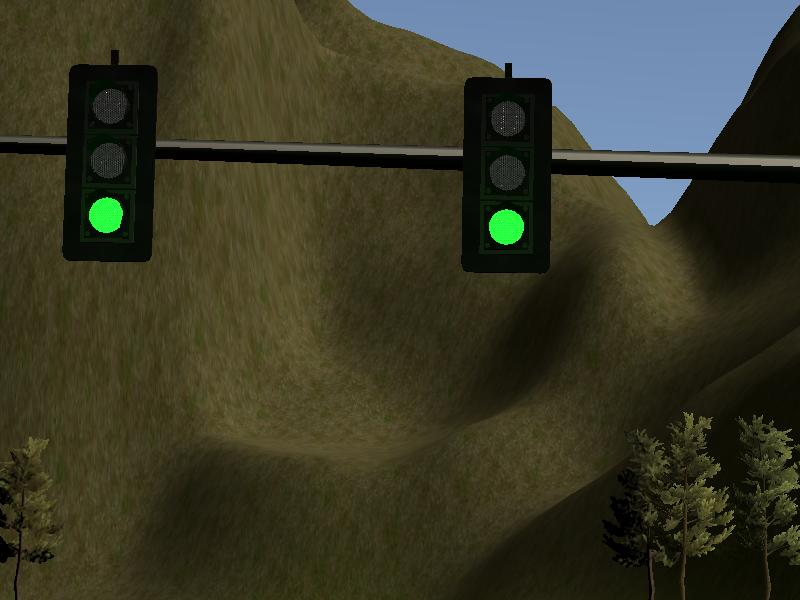green: (463, 77, 551, 274), (66, 65, 154, 262)
